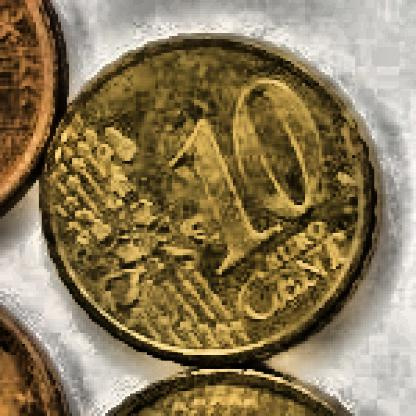coin: (41, 31, 378, 368)
